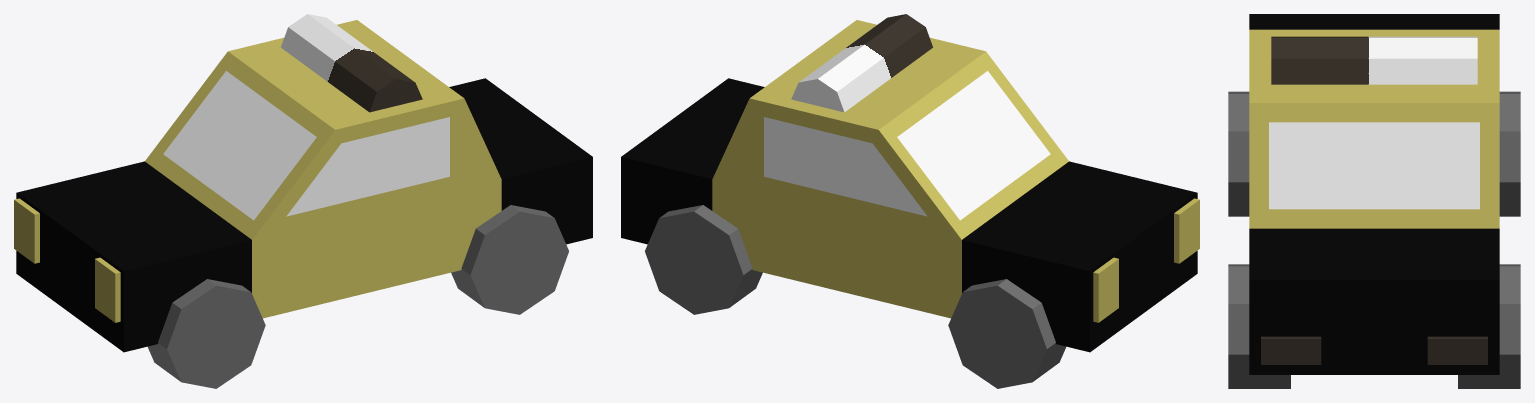
Rendered from policecar.fbx.
3 views of the same model, side by side, from view 1: azimuth 30°, elevation 25°; view 2: azimuth 150°, elevation 25°; view 3: azimuth 270°, elevation 25° (orthographic). The views are drawn at different scales.
Visible parts, largest first — view 1: Cube; view 2: Cube; view 3: Cube.
Boxes of the visible parts, x1=… form: Cube: x1=14, y1=14, x2=592, y2=388; Cube: x1=621, y1=14, x2=1199, y2=388; Cube: x1=1228, y1=14, x2=1520, y2=388.
Bounding box in the file's own units: 3.95 × 1.95 × 1.79.
Materials: 1 (1 with a texture image).
